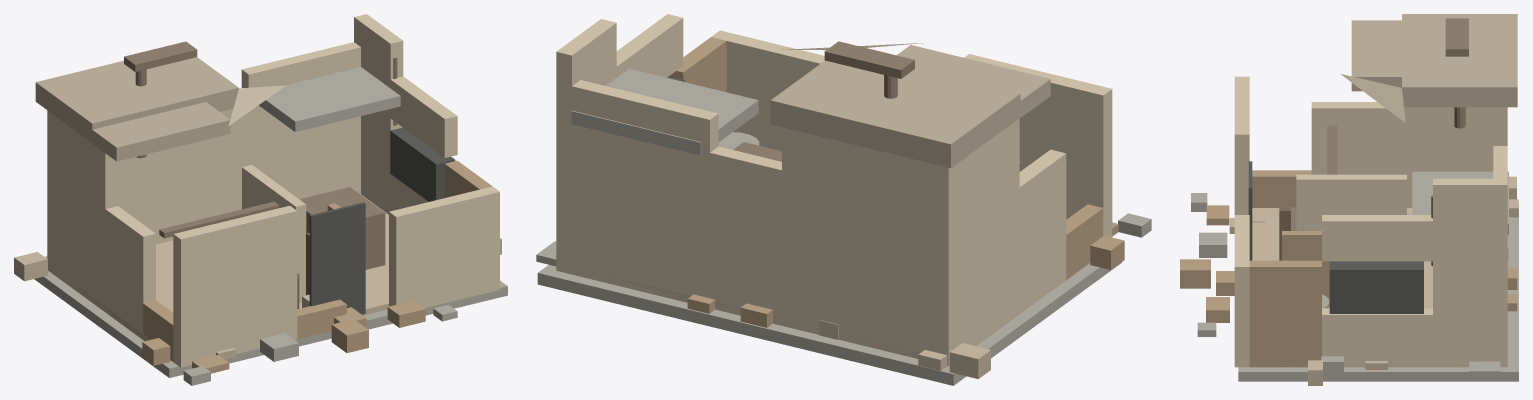
The model's file is ruin-depot.gltf.
The picture shows the model from 3 angles, left to right: view 1: azimuth 30°, elevation 25°; view 2: azimuth 150°, elevation 25°; view 3: azimuth 270°, elevation 25°; orthographic projection. The views are drawn at different scales.
Visible parts, largest first — view 1: ruin-depot; view 2: ruin-depot; view 3: ruin-depot.
Part boxes in pixels (x1,y1,x2,y2): ruin-depot: (14,14,507,385); ruin-depot: (536,14,1151,385); ruin-depot: (1180,14,1518,385).
Bounding box in the file's own units: 7.25 × 4 × 5.39.
